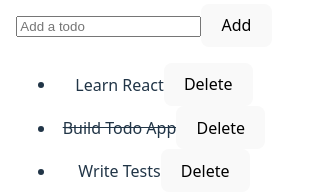
it: TodoList › deletes a todo
Click the button named "delete-2" at x=221, y=128, box [176,106,265,149]
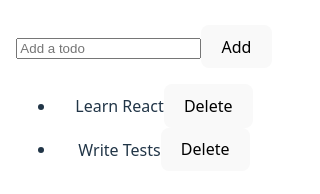
Expected: the button "Build Todo App" is gone
